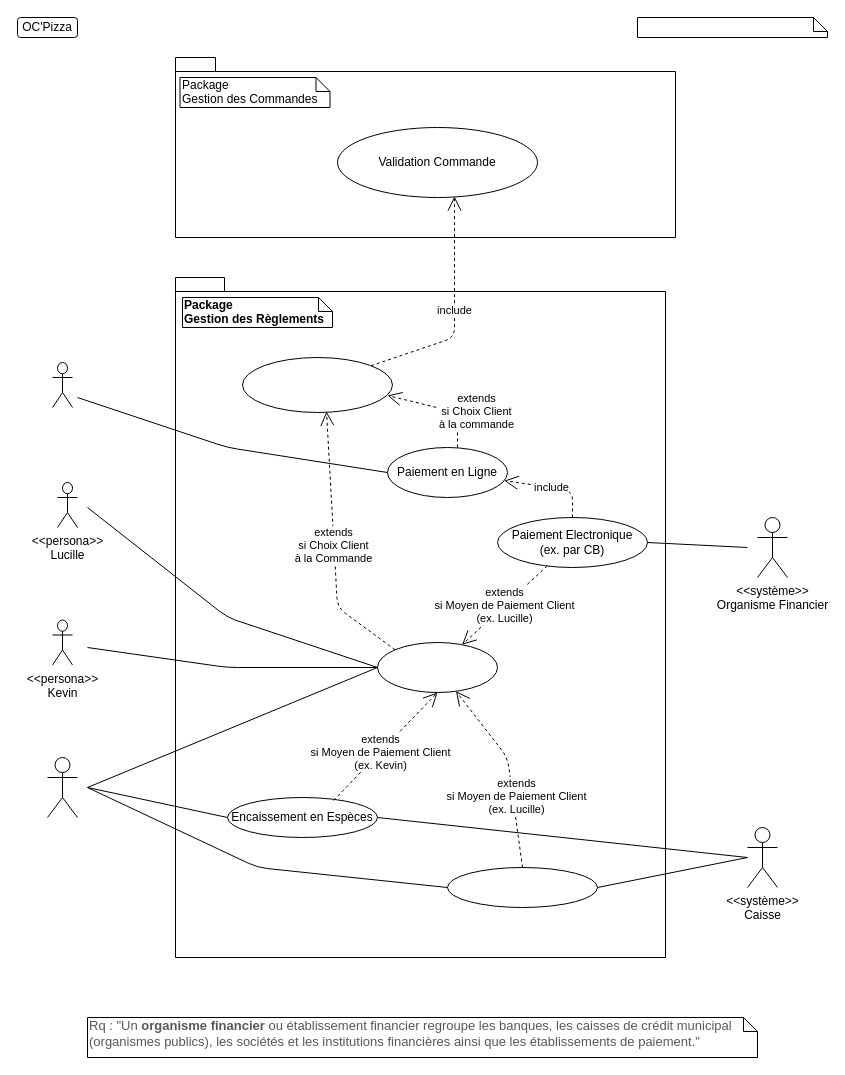
The diagram is 845 pixels wide and 1075 high, and some of its shapes have lost their labels. The box of each missing label's shape, as (x1, y1, x2, y2) in pixels:
<<persona>> Thomas: (52, 362, 72, 408)
Choix Mode de Paiement: (242, 356, 392, 412)
Diagramme de Cas d'Utilisation: (636, 16, 828, 38)
Livreur: (46, 756, 78, 818)
Paiement Direct à la Livraison: (376, 642, 498, 692)
Paiement par Chèque: (446, 866, 598, 908)
